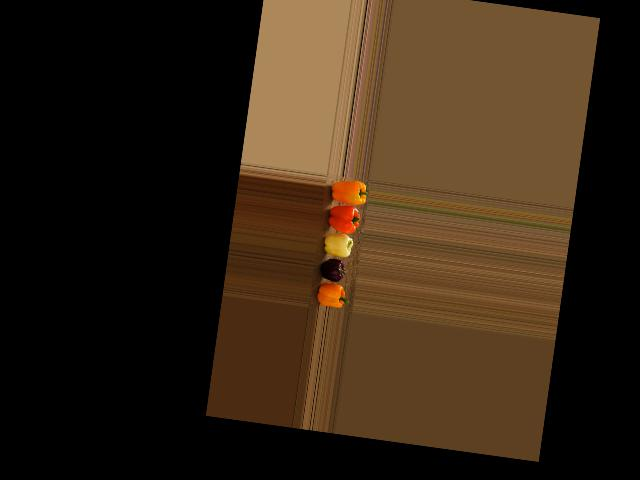bell_pepper: (309, 283, 351, 311)
